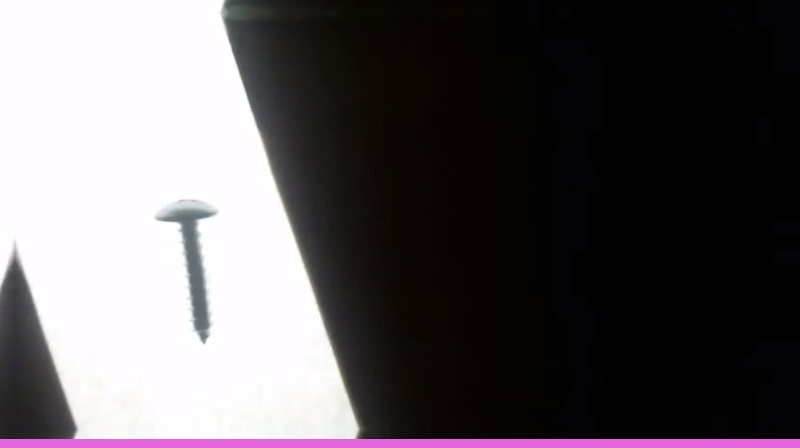S003: (150, 194, 221, 343)
